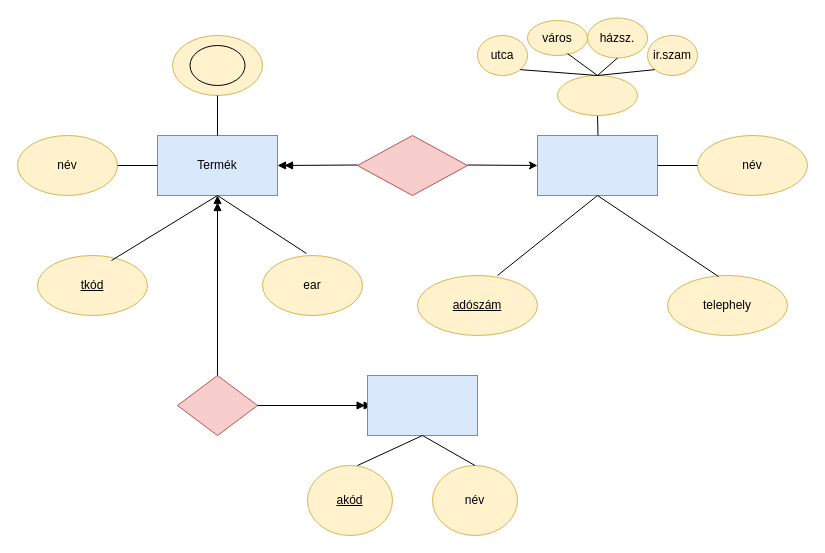
This 825x553 diagram has some shape labels left out. The box of each missing label's shape, as (x1, y1, x2, y2) in pixels:
Alkatrész: (366, 374, 478, 436)
csomag db: (189, 44, 245, 86)
Gyár: (536, 134, 658, 196)
postai cím: (556, 74, 638, 116)
t-a: (176, 374, 258, 436)
t-gy: (356, 134, 468, 196)
